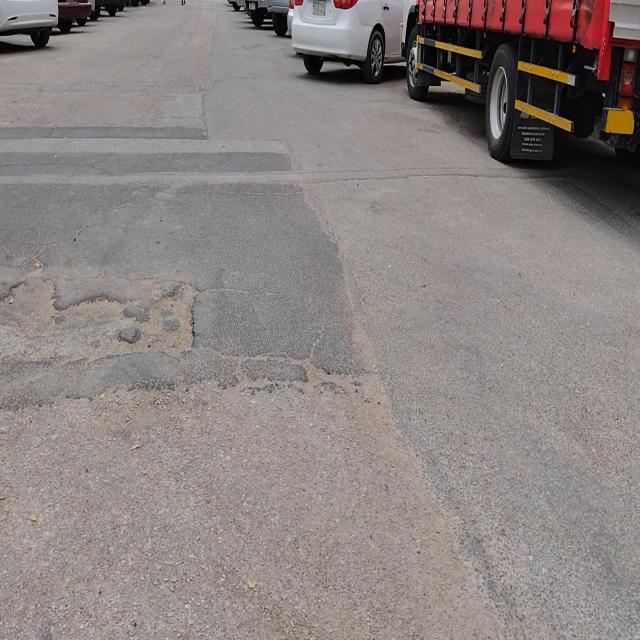Potholes: (117, 277, 201, 362), (54, 293, 122, 366)
